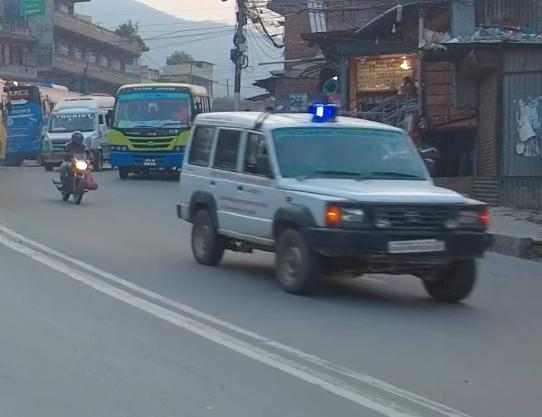ambulance: (174, 100, 494, 312)
bike: (52, 151, 94, 206)
bus: (104, 79, 211, 184)
micro_bus: (40, 91, 118, 173), (6, 81, 49, 164)
